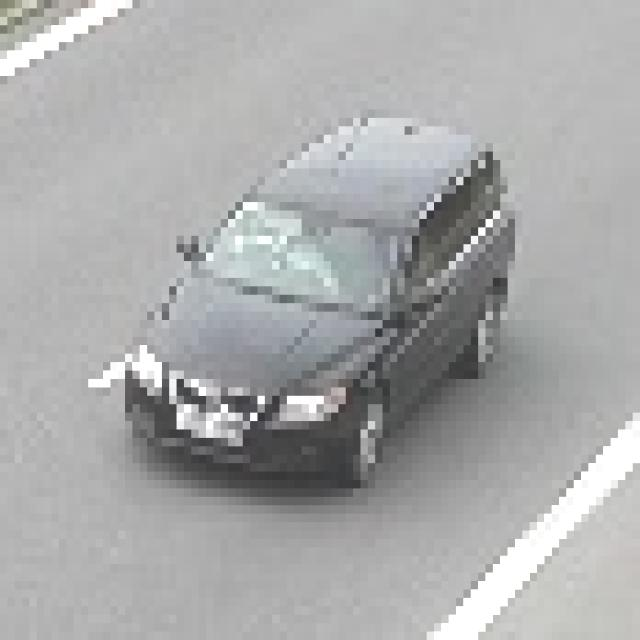SUV: (131, 130, 493, 468)
